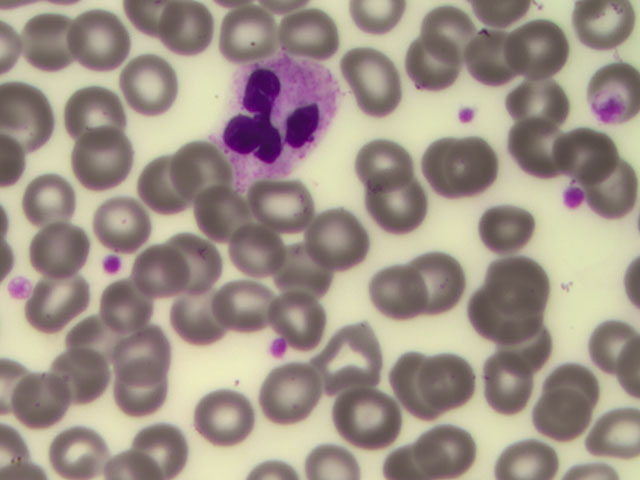Platelets: (10, 276, 32, 303), (265, 336, 286, 360), (562, 188, 581, 211), (459, 103, 473, 126), (104, 255, 119, 272)
RBC: (18, 11, 81, 75), (66, 7, 129, 71), (122, 50, 185, 114), (61, 77, 124, 141), (61, 119, 124, 183), (23, 165, 86, 229), (27, 212, 90, 276), (31, 267, 94, 331), (97, 274, 160, 338), (127, 245, 190, 309), (159, 233, 222, 297), (82, 191, 145, 255), (129, 151, 192, 215), (161, 131, 224, 195), (192, 175, 255, 239), (244, 170, 307, 234), (237, 215, 300, 279), (267, 230, 330, 294), (309, 206, 372, 270), (278, 279, 341, 343), (211, 270, 274, 334), (169, 285, 232, 349), (114, 324, 177, 388), (59, 308, 122, 372), (51, 339, 114, 403), (9, 368, 72, 432), (106, 363, 169, 427), (133, 416, 196, 480), (42, 416, 105, 480), (197, 383, 260, 447), (250, 362, 313, 426), (327, 321, 390, 385), (337, 390, 400, 454), (367, 353, 430, 417), (414, 356, 477, 420), (361, 261, 424, 325), (411, 248, 474, 312), (376, 182, 439, 246), (357, 134, 420, 198), (407, 131, 470, 195), (449, 134, 512, 198), (347, 50, 410, 114), (283, 1, 346, 65), (219, 1, 282, 65), (158, 1, 221, 65), (397, 39, 460, 103), (415, 6, 478, 70), (453, 18, 516, 82), (499, 19, 562, 83), (500, 64, 563, 128), (516, 112, 579, 176), (548, 114, 611, 178), (577, 150, 640, 214), (577, 312, 640, 376), (577, 407, 640, 471), (502, 416, 565, 480), (534, 386, 597, 450), (544, 343, 607, 407), (483, 355, 546, 419), (492, 326, 555, 390), (452, 285, 515, 349), (488, 251, 551, 315), (477, 192, 540, 256), (410, 416, 473, 480)
WBC: (214, 58, 340, 179)
